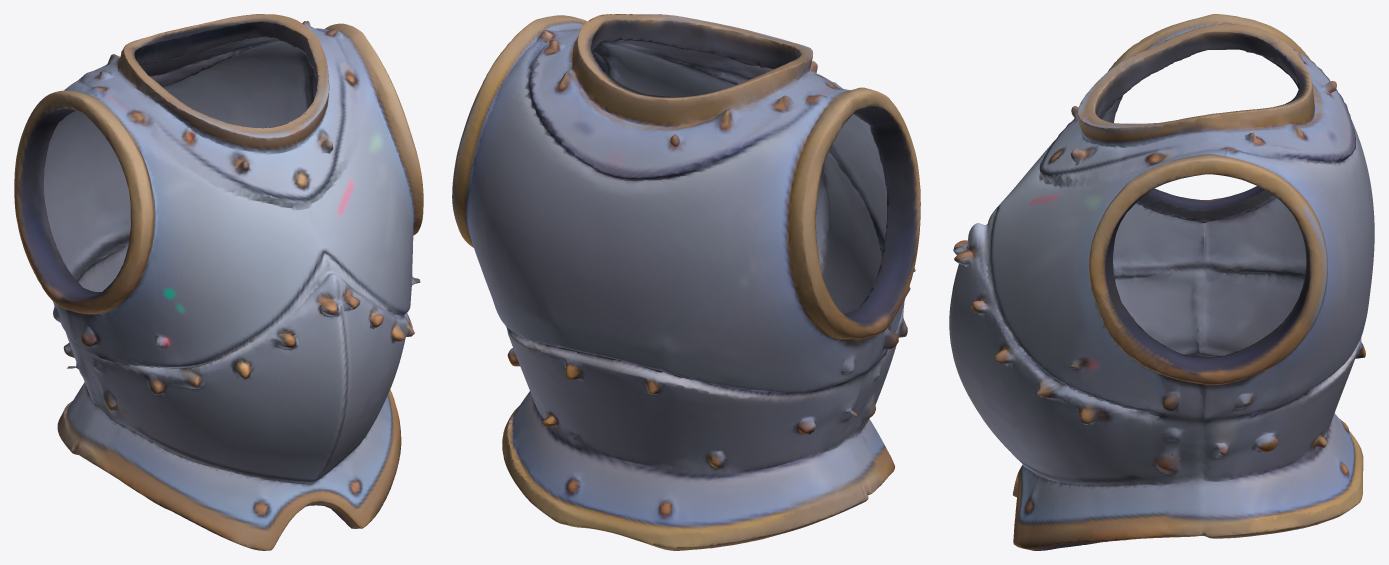
The model's file is peito-guerreiro.glb.
The picture shows the model from 3 angles, left to right: view 1: azimuth 30°, elevation 25°; view 2: azimuth 150°, elevation 25°; view 3: azimuth 270°, elevation 25°; orthographic projection. The views are drawn at different scales.
Visible parts, largest first — view 1: tripo_node_87190bf8-aa2e-47ce-9bee-60b53f8eb02c.001; view 2: tripo_node_87190bf8-aa2e-47ce-9bee-60b53f8eb02c.001; view 3: tripo_node_87190bf8-aa2e-47ce-9bee-60b53f8eb02c.001.
Part boxes in pixels (x1=…): tripo_node_87190bf8-aa2e-47ce-9bee-60b53f8eb02c.001: x1=14, y1=14, x2=423, y2=550; tripo_node_87190bf8-aa2e-47ce-9bee-60b53f8eb02c.001: x1=452, y1=14, x2=920, y2=550; tripo_node_87190bf8-aa2e-47ce-9bee-60b53f8eb02c.001: x1=949, y1=14, x2=1374, y2=550.
Bounding box in the file's own units: 0.1786 × 0.2154 × 0.1818.
Materials: 1 (1 with a texture image).
